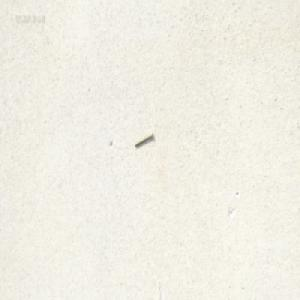Bolt: (133, 131, 153, 147)
